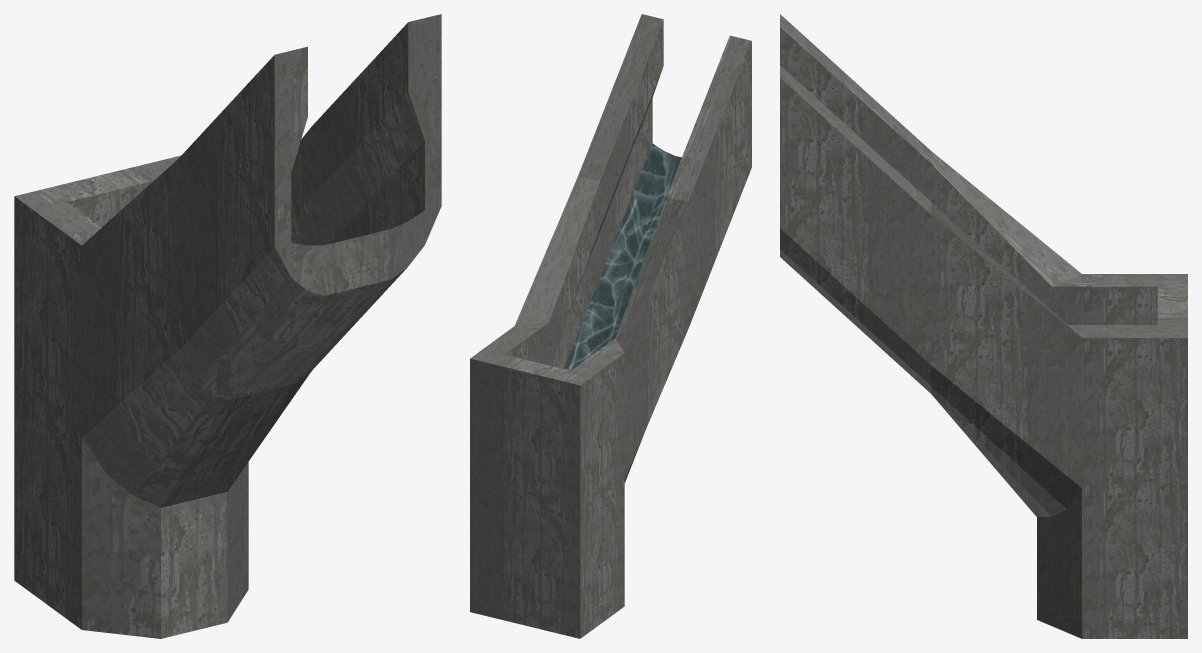
File: Dragonfly_IceSlide_Slide_Pipe_Down_Start.fbx
The picture shows the model from 3 angles, left to right: view 1: azimuth 30°, elevation 25°; view 2: azimuth 150°, elevation 25°; view 3: azimuth 270°, elevation 25°; orthographic projection. The views are drawn at different scales.
Visible parts, largest first — view 1: Slide Pipe Down Start; view 2: Slide Pipe Down Start; view 3: Slide Pipe Down Start.
Boxes of the visible parts, x1,y1,x2,y2 form: Slide Pipe Down Start: [14, 14, 441, 638]; Slide Pipe Down Start: [470, 14, 751, 638]; Slide Pipe Down Start: [780, 14, 1187, 638].
Size of the model in its own units: 10 by 41 by 27.
